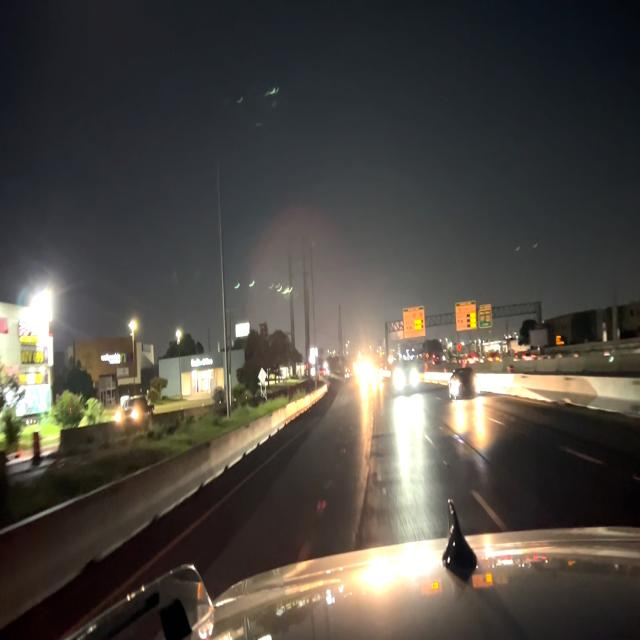back-of-sign: (388, 318, 404, 343)
